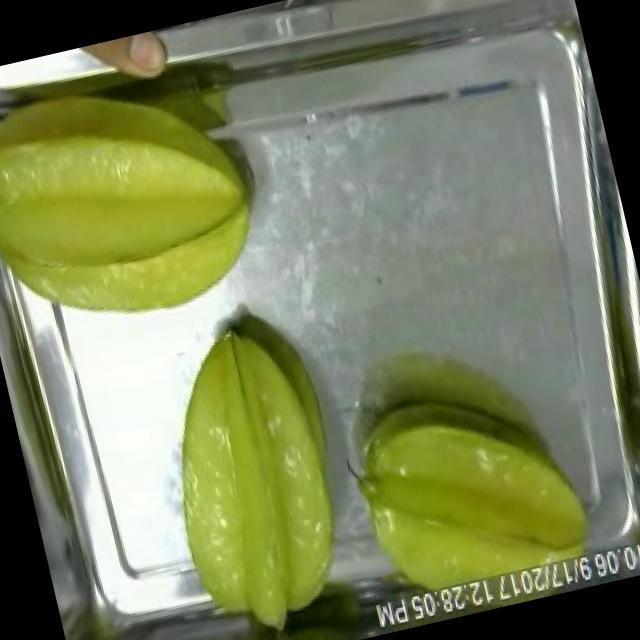fruit: (0, 38, 289, 361), (133, 297, 381, 640), (333, 374, 614, 608)
